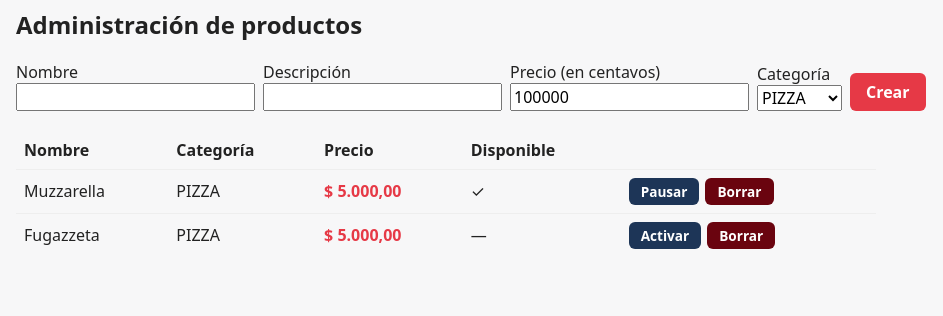
Test: <AdminProductsPage> › muestra error si borrar falla
Click the button "Borrar" in the row of "Muzzarella" at [740, 191], box [706,178,774,205]
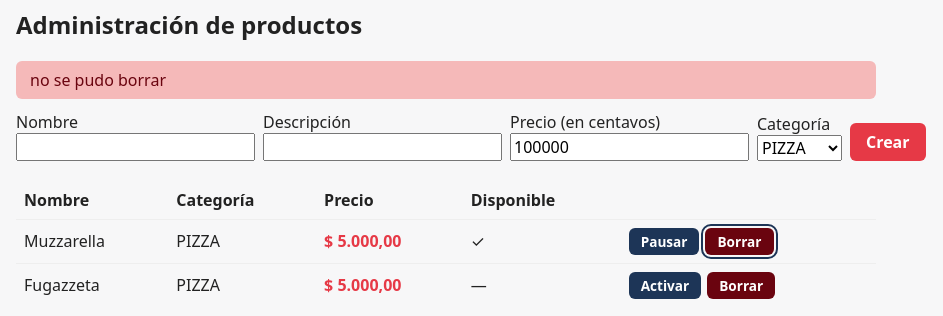
Check: the text "no se pudo borrar" is shown, box [16,61,876,99]
